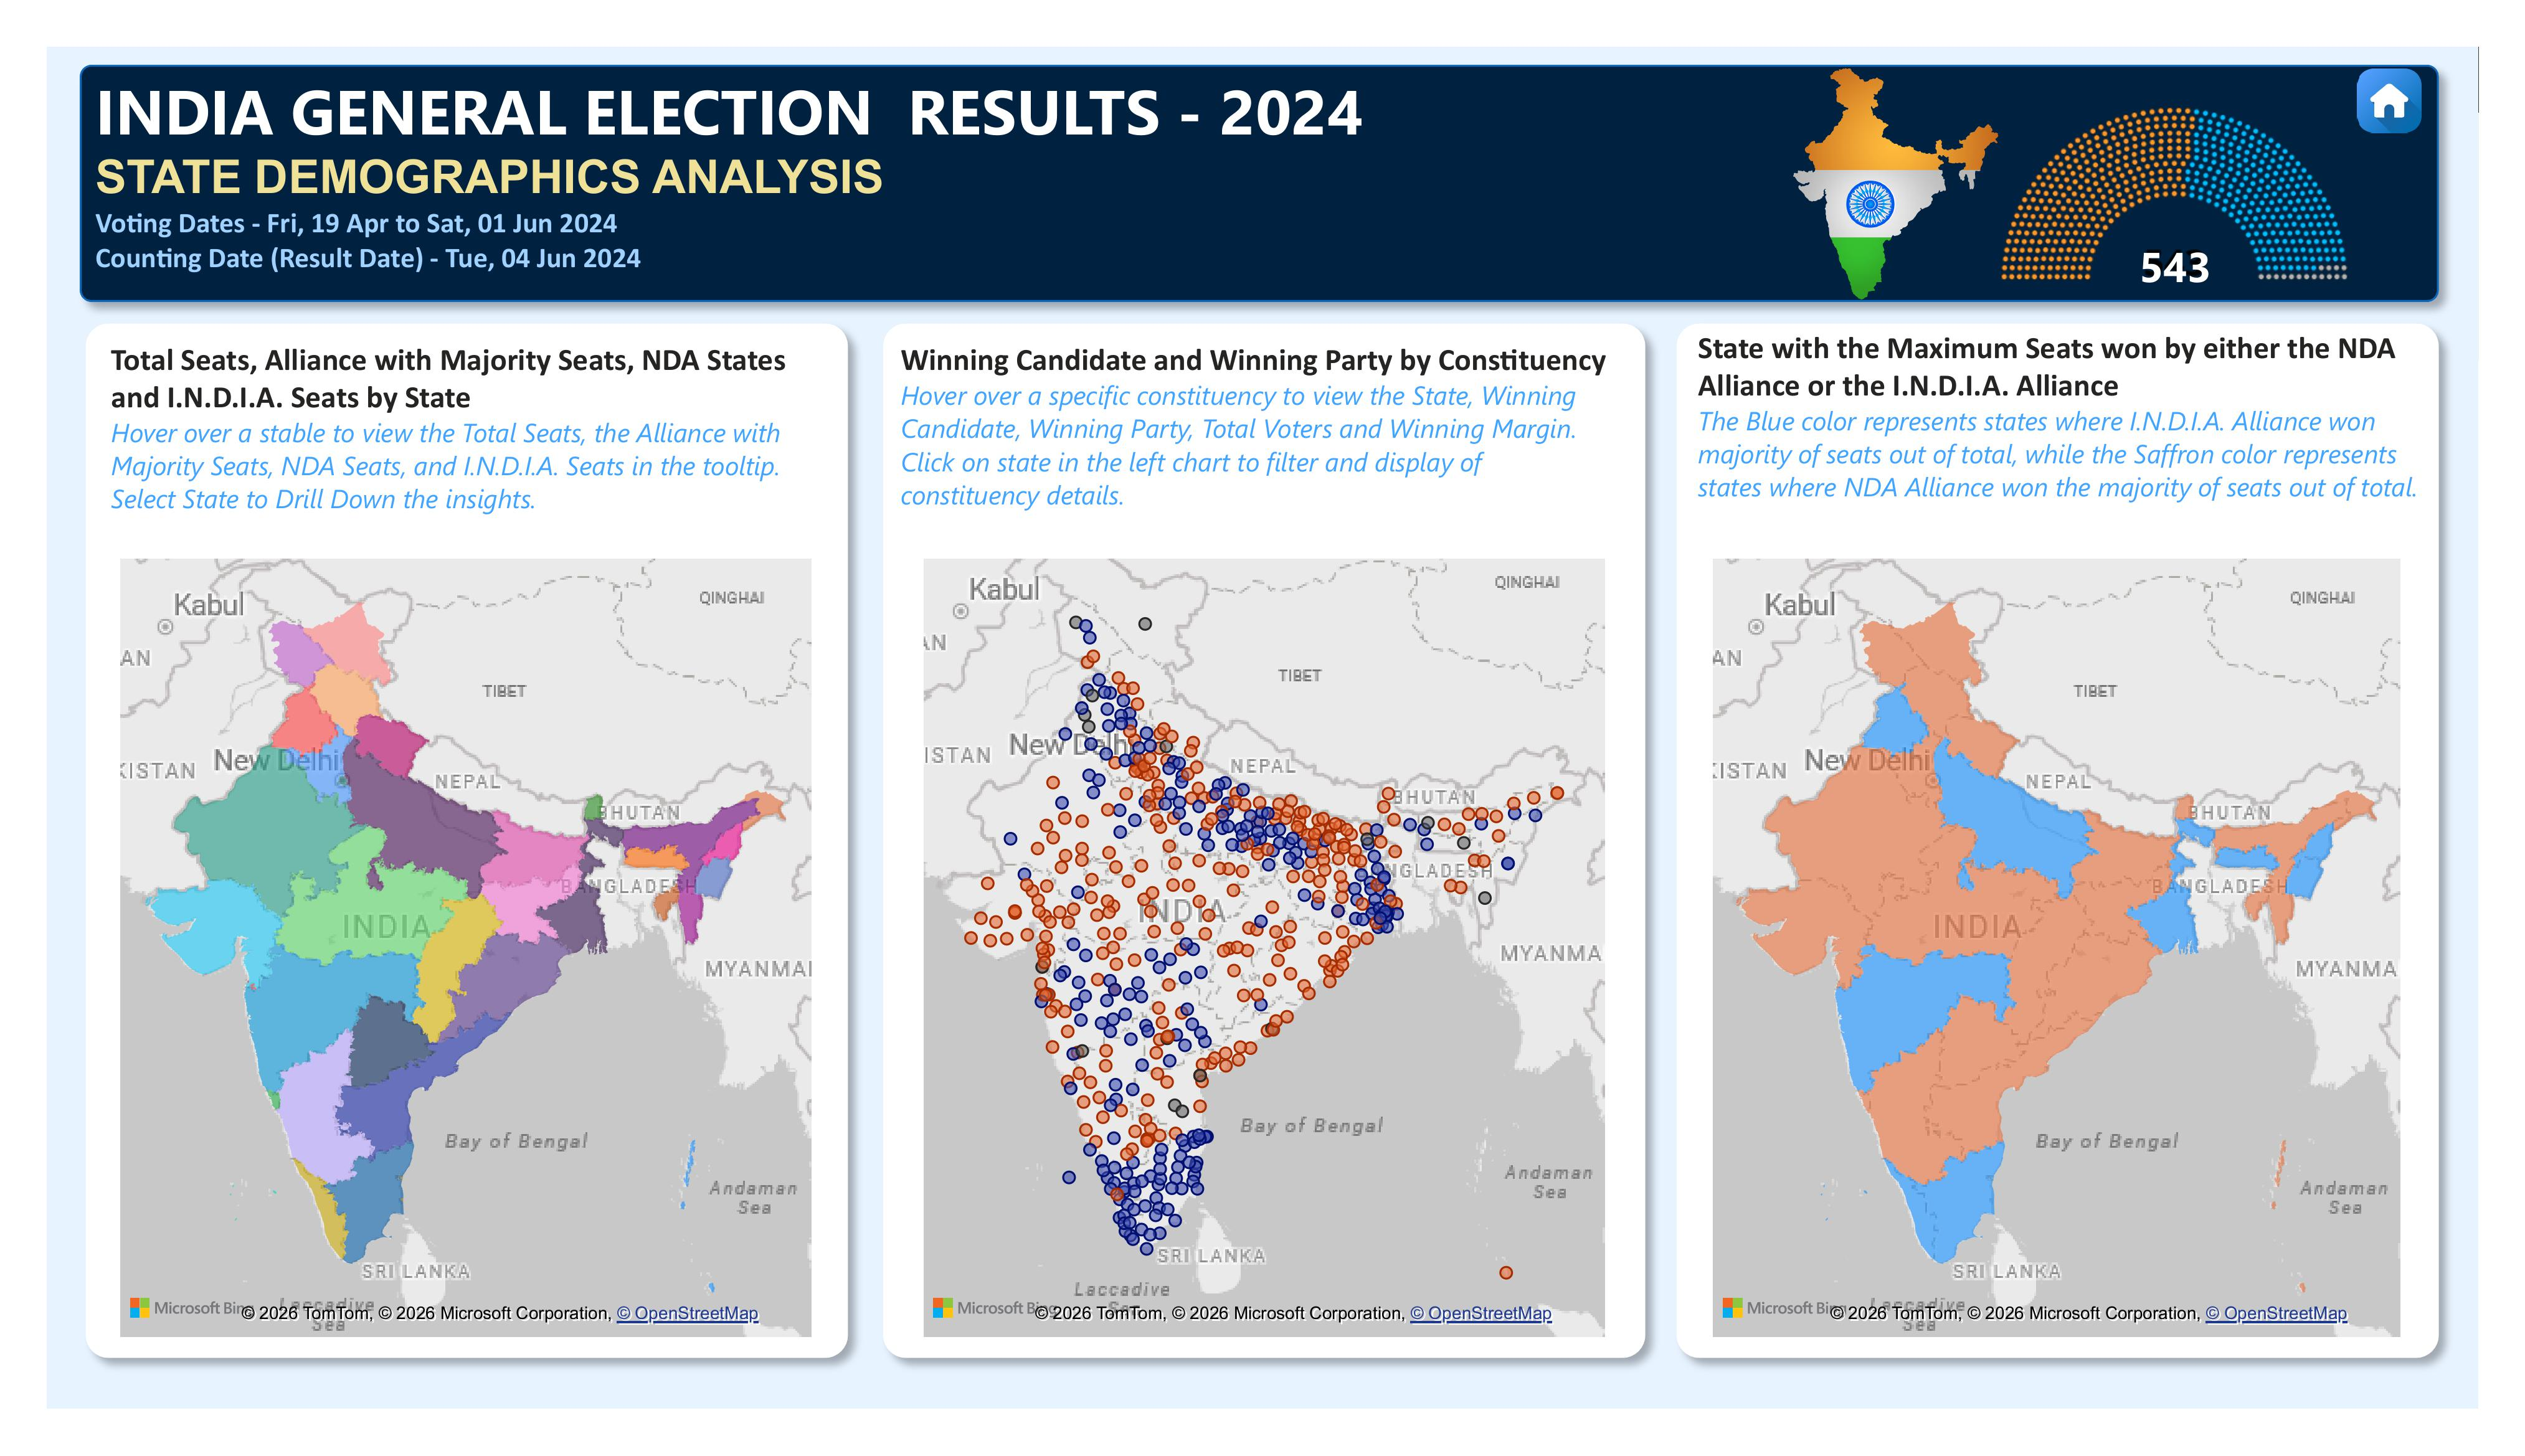

Layout of this report page (visuals, bound fields, positions):
{"tool":"powerbi","page":{"name":"State Demographics","canvas":[1250,700],"ordinal":2},"visuals":[{"type":"shape","box":[9.3,0,1229.8,139.8],"z":0},{"type":"textbox","box":[25.3,5.9,684.8,121.3],"z":1000},{"type":"image","box":[684,14.3,63.2,40.4],"z":2000},{"type":"image","box":[985.7,12.2,201.3,115.4],"z":3000},{"type":"shape","box":[9.4,143.9,410,552],"z":4000},{"type":"image","box":[874.5,12.2,111.2,115.4],"z":5000},{"type":"shape","box":[419.8,142.8,409.8,552.5],"z":6000},{"type":"card","fields":{"Values":["Sum(partywise_results.Won)"]},"box":[1032.8,80.5,109.5,47.2],"z":7000},{"type":"shape","box":[829.6,142.7,409.7,552.4],"z":8000},{"type":"filledMap","title":"Total Seats, Alliance with Majority Seats, NDA Seats and I.N.D.I.A. Seats by State","fields":{"Category":["states.State"],"Series":["states.State"]},"box":[31.5,269.4,365,409.4],"z":9000},{"type":"map","fields":{"Category":["statewise_results.Country","states.State","statewise_results.Constituency"],"Series":["constituencywise_results.Party Alliance (Color Legend)"]},"box":[439.9,268.9,372.7,409.3],"z":10000},{"type":"filledMap","title":"Total Seats, Alliance with Majority Seats, NDA Seats and I.N.D.I.A. Seats by State","fields":{"Category":["states.State"],"Series":["constituencywise_results.Winning_Alliance"]},"box":[851.6,268.9,368,409.3],"z":11000},{"type":"textbox","box":[31.8,153.7,364.7,115.6],"z":12000},{"type":"textbox","box":[440.8,153.9,373.2,115.5],"z":13000},{"type":"textbox","box":[851.4,153.9,368.5,115.5],"z":14000},{"type":"image","box":[1176.2,10.2,51,49.9],"z":15000}]}

Visuals, with their boxes on the page's 1250x700 design canvas (x1, y1, x2, y2). These are canvas units, not pixel positions in the 2525x1456 screenshot, which may show the page scaled, cropped or inside an application window:
shape: <bbox>9, 0, 1239, 140</bbox>
textbox: <bbox>25, 6, 710, 127</bbox>
image: <bbox>684, 14, 747, 55</bbox>
image: <bbox>986, 12, 1187, 128</bbox>
shape: <bbox>9, 144, 419, 696</bbox>
image: <bbox>874, 12, 986, 128</bbox>
shape: <bbox>420, 143, 830, 695</bbox>
card - Sum(partywise_results.Won): <bbox>1033, 80, 1142, 128</bbox>
shape: <bbox>830, 143, 1239, 695</bbox>
"Total Seats, Alliance with Majority Seats, NDA Seats and I.N.D.I.A. Seats by State" filledMap: <bbox>32, 269, 396, 679</bbox>
map - statewise_results.Country x states.State: <bbox>440, 269, 813, 678</bbox>
"Total Seats, Alliance with Majority Seats, NDA Seats and I.N.D.I.A. Seats by State" filledMap: <bbox>852, 269, 1220, 678</bbox>
textbox: <bbox>32, 154, 396, 269</bbox>
textbox: <bbox>441, 154, 814, 269</bbox>
textbox: <bbox>851, 154, 1220, 269</bbox>
image: <bbox>1176, 10, 1227, 60</bbox>
